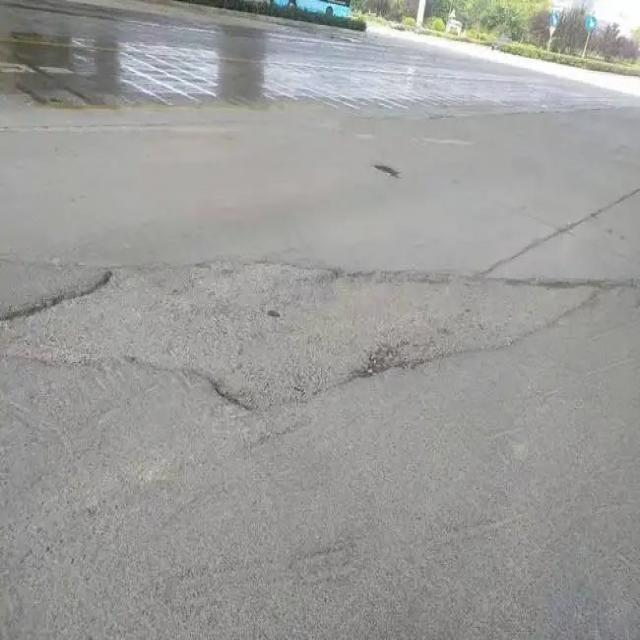Pothole: (11, 264, 612, 414), (368, 159, 401, 178)
